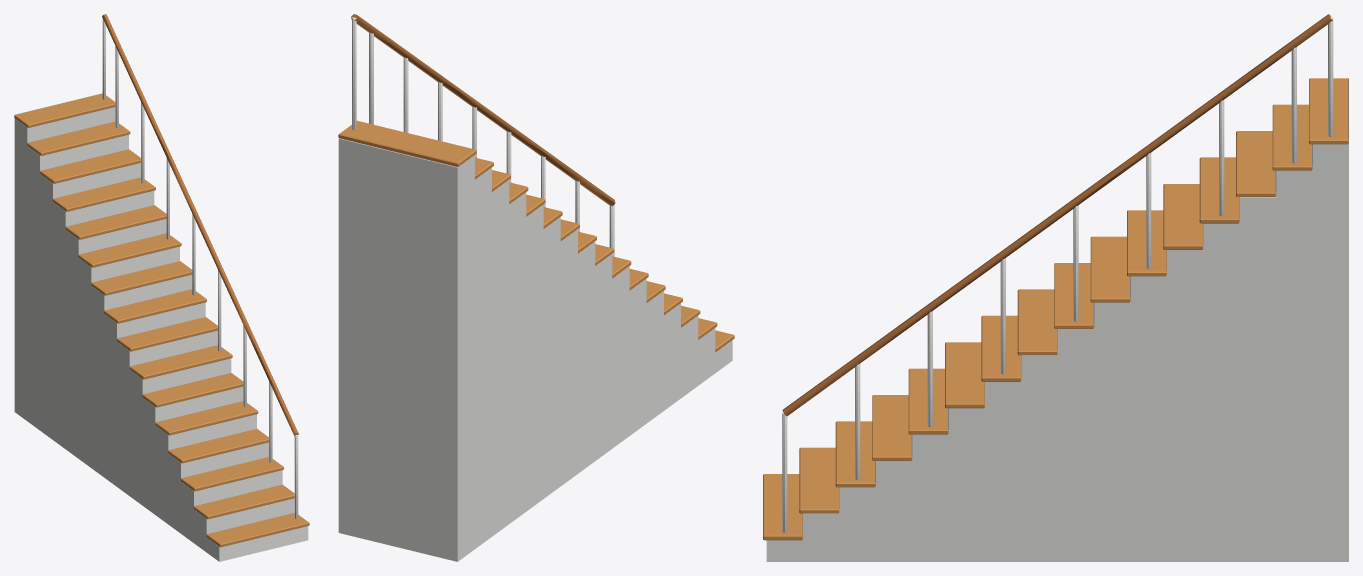
The model's file is escada_reta.glb.
3 views of the same model, side by side, from view 1: azimuth 30°, elevation 25°; view 2: azimuth 150°, elevation 25°; view 3: azimuth 270°, elevation 25° (orthographic). The views are drawn at different scales.
Parts seen in each view (by area): view 1: escada_reta, colisao_malha; view 2: escada_reta; view 3: escada_reta.
Part boxes in pixels (x1,y1,x2,y2): escada_reta: (14, 14, 309, 561); colisao_malha: (15, 93, 294, 533); escada_reta: (338, 14, 734, 561); escada_reta: (763, 14, 1348, 561).
Bounding box in the file's own units: 1.01 × 4.12 × 4.03.
Materials: 1 (1 with a texture image).
